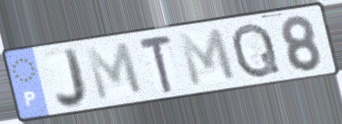8: (278, 13, 324, 73)
J: (53, 46, 90, 110)
M: (82, 40, 146, 104), (175, 26, 239, 90)
Q: (229, 20, 283, 80)
T: (136, 34, 176, 95)
